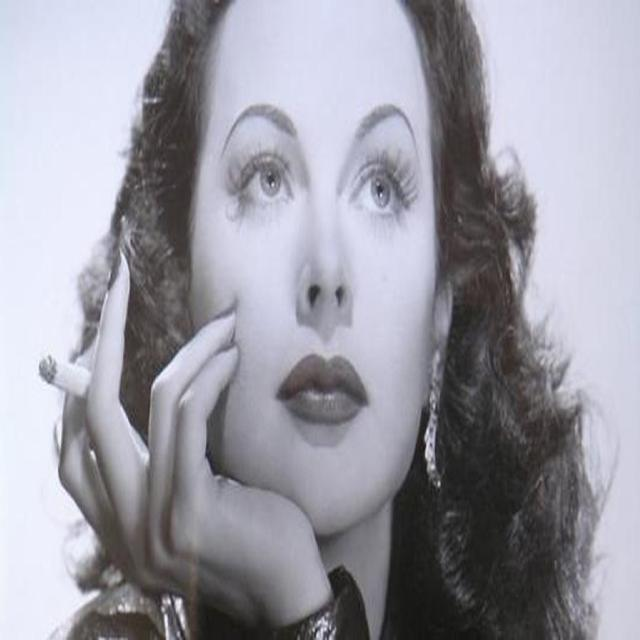smoking: (36, 0, 474, 565)
